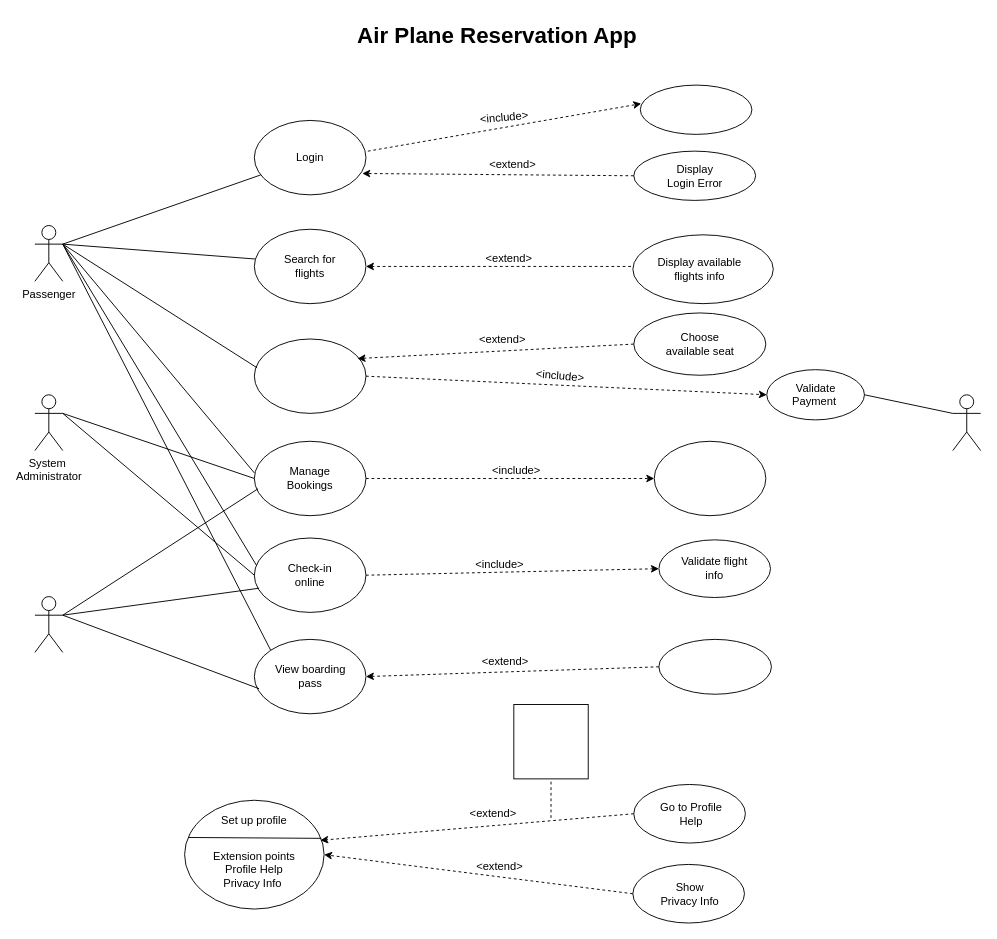
Image size: 997x939. Some labels were removed from this diagram. Here are the shapes that lost their labels. From the top down, the centre of each, then its label:
the point at 695,109: Verify password
the point at 309,375: Book flight
the point at 966,422: Bank
the point at 709,478: Update flight info data
the point at 48,624: Customer Service
the point at 714,666: Display flight info
the point at 550,741: If user clicks help, go to Profile Help
